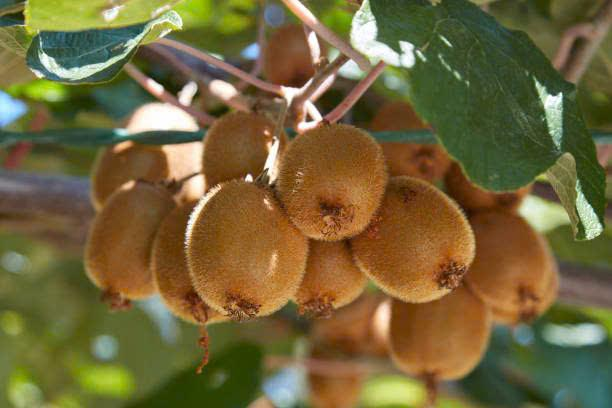kiwi: (96, 143, 197, 317), (195, 175, 293, 323), (388, 180, 491, 316), (286, 115, 388, 239)
